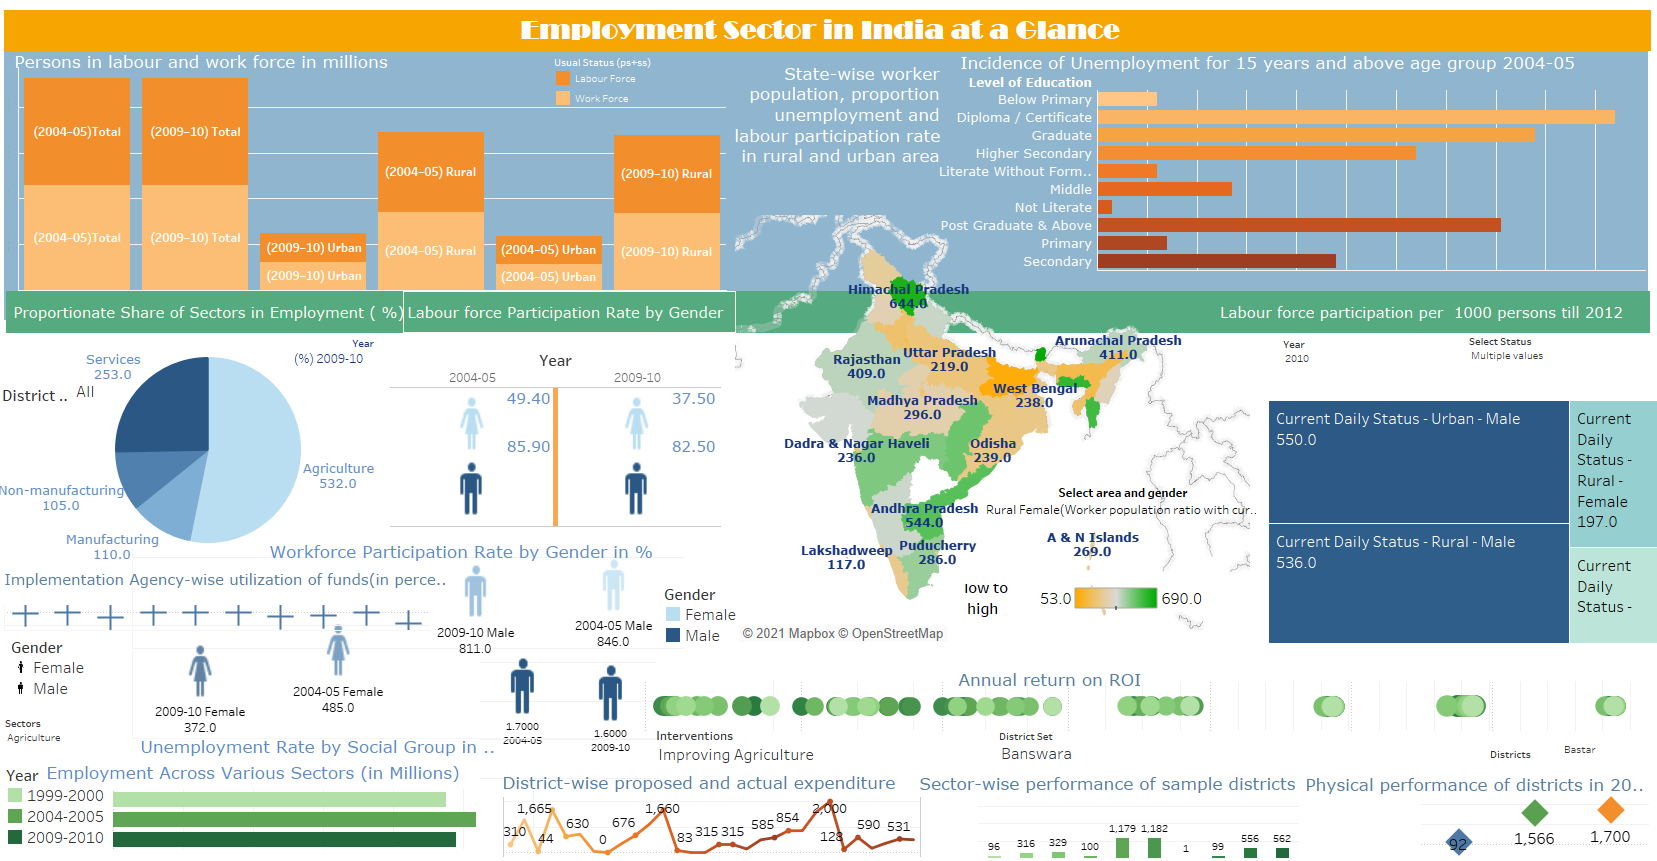

Layout of this report page (visuals, bound fields, positions):
{"tool":"tableau","page":{"name":"Employment Sector in India","canvas":[1000,1000],"units":"permille","ordinal":0},"visuals":[{"type":"worksheet","box":[0,0,1000,1000]},{"type":"worksheet","param":"horz","box":[4.8,9.3,990.3,981.4]},{"type":"worksheet","param":"vert","box":[4.8,9.3,990.3,981.4]},{"type":"worksheet","title":"District-wise details of the annual Return on Investment (RoI) - Based on Sample Survey, 2010","mark":"Shape","cols":["Added Benefits per annum (Rs in lakhs)","Amount Spent on Interventions with Tangible Benefits (Rs. In","Amount Spent on Interventions with Tangible Benefits (Rs. In","Sanctioned Amount (Rs. In lakhs)","Expenditure (Rs. in Lakhs)","Sanctioned Amount (Rs. in lakhs)"],"param":"[federated.0lofuxx02yq4611h6li4w126dw7b].[none:Name of the District:nk]","box":[4.8,9.3,990.3,374]},{"type":"worksheet","box":[2.4,11.6,994,47.6]},{"type":"worksheet","box":[182.3,15.1,625.2,38.3]},{"type":"worksheet","box":[577.5,52.3,405.8,40.6]},{"type":"worksheet","box":[6.6,53.4,292,36]},{"type":"worksheet","box":[2.4,58.1,992.2,313.6]},{"type":"worksheet","title":"Persons in Labour and Work force (ps+ss)","mark":"Automatic","box":[4.8,60.4,433.2,276.4]},{"type":"worksheet","title":"Persons in Labour and Work force (ps+ss)","mark":"Automatic","param":"[federated.18rapa501wyexi12sopob0msjszv].[none:Usual Status (ps+ss):nk]","box":[333.7,61.6,91.8,65]},{"type":"worksheet","title":"Incidence of Unemployment by level of education (in percentage)","mark":"Bar","rows":["Level of Education"],"cols":["Incidence of Unemployment for 15 years and above age group 2"],"box":[565.6,62.7,427.3,269.4]},{"type":"worksheet","box":[441.3,66.2,128.1,134.7]},{"type":"worksheet","title":"State_wise employment data","mark":"Multipolygon","box":[443.4,232.3,311.1,516.8]},{"type":"worksheet","box":[724.7,332.2,266.4,61.6]},{"type":"worksheet","box":[3.6,338,992.2,48.8]},{"type":"worksheet","box":[243.2,338,200.8,48.8]},{"type":"worksheet","box":[6,342.6,242.6,40.6]},{"type":"worksheet","title":"Labour force participation per 1000 persons","mark":"Automatic","param":"[federated.1tj6iml0sq9udb10uj6h109qi4qh].[none:Type:nk]","box":[886.8,386.8,100.1,62.7]},{"type":"worksheet","title":"Proportionate Share of Sectors in Employment (in percentage)","mark":"Pie","param":"[federated.1nnt2m017mmczk161pkf80m3zocb].[:Measure Names]","box":[176.4,389.1,85.8,59.2]},{"type":"worksheet","title":"Labour force participation per 1000 persons","mark":"Automatic","param":"[federated.1tj6iml0sq9udb10uj6h109qi4qh].[:Measure Names]","box":[774.1,390.2,100.1,62.7]},{"type":"worksheet","title":"Labour Force Participation Rate by Gender (in percentage) ","mark":"Shape","cols":["Year"],"box":[235.4,393.7,203.2,218.3]},{"type":"worksheet","title":"Implementation Agency-wise utilization of funds","mark":"Shape","param":"[federated.0vxz5b70tsjr4o14pjeak0jlt57b].[District Set]","box":[1.2,442.5,65,33.7]},{"type":"worksheet","title":"State_wise employment data","mark":"Multipolygon","param":"[federated.1u9i7ru0trt3f61d2hrpy13nkemj].[:Measure Names]","box":[593.7,561,167.8,51.1]},{"type":"worksheet","title":"Workforce Participation Rate by Gender ","mark":"Shape","box":[79.9,617.9,333.1,239.3]},{"type":"worksheet","box":[160.3,619.1,236,43]},{"type":"worksheet","box":[0.6,656.2,271.6,32.5]},{"type":"worksheet","title":"Labour Force Participation Rate by Gender (in percentage) ","mark":"Shape","cols":["Year"],"param":"[federated.0xg6mkp1qwd9hr1ed562e1ecfa7w].[none:Gender:nk]","box":[399.9,676,83.4,74.3]},{"type":"worksheet","title":"State_wise employment data","mark":"Multipolygon","param":"[federated.1u9i7ru0trt3f61d2hrpy13nkemj].[Multiple Values]","box":[560.1,678.3,189.5,48.8]},{"type":"worksheet","title":"Implementation Agency-wise utilization of funds","mark":"Shape","box":[2.4,685.2,256.9,46.5]},{"type":"worksheet","title":"Labour Force Participation Rate by Gender (in percentage) ","mark":"Shape","cols":["Year"],"param":"[federated.0xg6mkp1qwd9hr1ed562e1ecfa7w].[none:Gender:nk]","box":[6,737.5,56.6,80.1]},{"type":"worksheet","title":"Unemployment Rate by Social Group","mark":"Shape","rows":["Unemployment Rate"],"cols":["Category","Year"],"box":[289.6,746.8,106.1,200.9]},{"type":"worksheet","title":"District-wise details of the annual Return on Investment (RoI) - Based on Sample Survey, 2010","mark":"Shape","cols":["Added Benefits per annum (Rs in lakhs)","Amount Spent on Interventions with Tangible Benefits (Rs. In","Amount Spent on Interventions with Tangible Benefits (Rs. In","Sanctioned Amount (Rs. In lakhs)","Expenditure (Rs. in Lakhs)","Sanctioned Amount (Rs. in lakhs)"],"box":[389.2,773.5,596.5,75.5]},{"type":"worksheet","box":[576.3,774.7,118,27.9]},{"type":"worksheet","title":"Employment Across Various Sectors (in Millions)","mark":"Bar","rows":["Sectors"],"param":"[federated.19lgvr41gkzog21dwbw6e1kzg1fy].[none:Sectors:nk]","box":[3,830.4,81,53.4]},{"type":"worksheet","title":"Districts-wise Proposed and Actual Expenditure by Key Sectors - Based on Sample Survey, 2010","mark":"Line","rows":["Interventions"],"param":"[federated.0m89rfs0w1v35y12w2zzo1no2wrk].[none:Interventions:nk]","box":[395.7,843.2,100.1,52.3]},{"type":"worksheet","title":"Sector-wise Physical Performance of Districts - Based on Sample Survey, 2010","mark":"Automatic","cols":["District Set","District"],"param":"[federated.107ravb1g2kp7j1e9q3r00y0z4uy].[District Set]","box":[603.1,845.5,100.1,49.9]},{"type":"worksheet","box":[82.8,850.2,217.5,32.5]},{"type":"worksheet","title":"Physical Performance of the Districts - Based on Sample Survey, 2010","mark":"Shape","cols":["Districts"],"param":"[federated.1bz127z1iddefb1bvlv8s1y4xndt].[none:Districts:nk]","box":[899.3,861.8,95.4,29]},{"type":"worksheet","box":[26.2,882.7,279.5,29]},{"type":"worksheet","title":"Employment Across Various Sectors (in Millions)","mark":"Bar","rows":["Sectors"],"param":"[federated.19lgvr41gkzog21dwbw6e1kzg1fy].[:Measure Names]","box":[3,886.2,65,98.7]},{"type":"worksheet","box":[300.9,890.8,243.2,36]},{"type":"worksheet","box":[553,892,233,36]},{"type":"worksheet","box":[785.5,895.5,211,31.4]},{"type":"worksheet","title":"Physical Performance of the Districts - Based on Sample Survey, 2010","mark":"Shape","cols":["Districts"],"box":[857.6,905.9,137.7,88.3]},{"type":"worksheet","title":"Districts-wise Proposed and Actual Expenditure by Key Sectors - Based on Sample Survey, 2010","mark":"Line","rows":["Interventions"],"box":[303.3,908.2,252.1,87.1]},{"type":"worksheet","title":"Sector-wise Physical Performance of Districts - Based on Sample Survey, 2010","mark":"Automatic","cols":["District Set","District"],"box":[590,911.7,193.7,84.8]}]}

Visuals, with their boxes on the dashboard's canvas, which has no fixed pixel size, in thousandths of its width and height (x1, y1, x2, y2). These are canvas units, not pixel positions in the 1657x861 screenshot, which may show the page scaled, cropped or inside an application window:
worksheet: 0, 0, 1000, 1000
worksheet: 5, 9, 995, 991
worksheet: 5, 9, 995, 991
"District-wise details of the annual Return on Investment (RoI) - Based on Sample Survey, 2010" worksheet (Shape marks): 5, 9, 995, 383
worksheet: 2, 12, 996, 59
worksheet: 182, 15, 808, 53
worksheet: 578, 52, 983, 93
worksheet: 7, 53, 299, 89
worksheet: 2, 58, 995, 372
"Persons in Labour and Work force (ps+ss)" worksheet: 5, 60, 438, 337
"Persons in Labour and Work force (ps+ss)" worksheet: 334, 62, 426, 127
"Incidence of Unemployment by level of education (in percentage)" worksheet (Bar marks): 566, 63, 993, 332
worksheet: 441, 66, 569, 201
"State_wise employment data" worksheet (Multipolygon marks): 443, 232, 754, 749
worksheet: 725, 332, 991, 394
worksheet: 4, 338, 996, 387
worksheet: 243, 338, 444, 387
worksheet: 6, 343, 249, 383
"Labour force participation per 1000 persons" worksheet: 887, 387, 987, 450
"Proportionate Share of Sectors in Employment (in percentage)" worksheet (Pie marks): 176, 389, 262, 448
"Labour force participation per 1000 persons" worksheet: 774, 390, 874, 453
"Labour Force Participation Rate by Gender (in percentage) " worksheet (Shape marks): 235, 394, 439, 612
"Implementation Agency-wise utilization of funds" worksheet (Shape marks): 1, 442, 66, 476
"State_wise employment data" worksheet (Multipolygon marks): 594, 561, 762, 612
"Workforce Participation Rate by Gender " worksheet (Shape marks): 80, 618, 413, 857
worksheet: 160, 619, 396, 662
worksheet: 1, 656, 272, 689
"Labour Force Participation Rate by Gender (in percentage) " worksheet (Shape marks): 400, 676, 483, 750
"State_wise employment data" worksheet (Multipolygon marks): 560, 678, 750, 727
"Implementation Agency-wise utilization of funds" worksheet (Shape marks): 2, 685, 259, 732
"Labour Force Participation Rate by Gender (in percentage) " worksheet (Shape marks): 6, 738, 63, 818
"Unemployment Rate by Social Group" worksheet (Shape marks): 290, 747, 396, 948
"District-wise details of the annual Return on Investment (RoI) - Based on Sample Survey, 2010" worksheet (Shape marks): 389, 774, 986, 849
worksheet: 576, 775, 694, 803
"Employment Across Various Sectors (in Millions)" worksheet (Bar marks): 3, 830, 84, 884
"Districts-wise Proposed and Actual Expenditure by Key Sectors - Based on Sample Survey, 2010" worksheet (Line marks): 396, 843, 496, 896
"Sector-wise Physical Performance of Districts - Based on Sample Survey, 2010" worksheet: 603, 846, 703, 895
worksheet: 83, 850, 300, 883
"Physical Performance of the Districts - Based on Sample Survey, 2010" worksheet (Shape marks): 899, 862, 995, 891
worksheet: 26, 883, 306, 912
"Employment Across Various Sectors (in Millions)" worksheet (Bar marks): 3, 886, 68, 985
worksheet: 301, 891, 544, 927
worksheet: 553, 892, 786, 928
worksheet: 786, 896, 996, 927
"Physical Performance of the Districts - Based on Sample Survey, 2010" worksheet (Shape marks): 858, 906, 995, 994
"Districts-wise Proposed and Actual Expenditure by Key Sectors - Based on Sample Survey, 2010" worksheet (Line marks): 303, 908, 555, 995
"Sector-wise Physical Performance of Districts - Based on Sample Survey, 2010" worksheet: 590, 912, 784, 996
